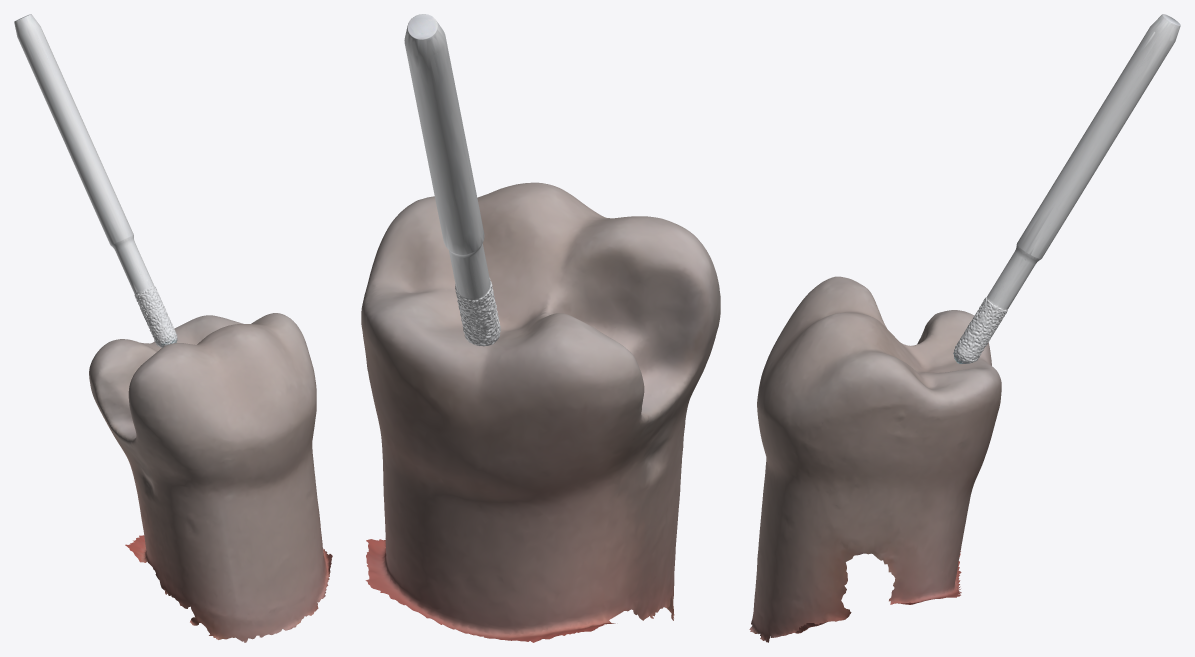
Rendered from 2133_onlay_5.fbx.
3 views of the same model, side by side, from view 1: azimuth 30°, elevation 25°; view 2: azimuth 150°, elevation 25°; view 3: azimuth 270°, elevation 25° (orthographic). The views are drawn at different scales.
Parts seen in each view (by area): view 1: Diente_high, Mesh_0, Mesh_0.001; view 2: Diente_high, Mesh_0, Mesh_0.001; view 3: Diente_high, Mesh_0, Mesh_0.001.
Boxes of the visible parts, left/top/right/bottom form: Diente_high: left=89, top=313, right=332, bottom=642; Mesh_0: left=14, top=14, right=153, bottom=293; Mesh_0.001: left=134, top=285, right=177, bottom=347; Diente_high: left=361, top=182, right=720, bottom=642; Mesh_0: left=404, top=14, right=490, bottom=298; Mesh_0.001: left=455, top=278, right=500, bottom=346; Diente_high: left=749, top=276, right=1001, bottom=642; Mesh_0: left=987, top=14, right=1180, bottom=308; Mesh_0.001: left=953, top=296, right=1007, bottom=363.
Bounding box in the file's own units: 113 × 293 × 199.
2 materials, 2 textured.
